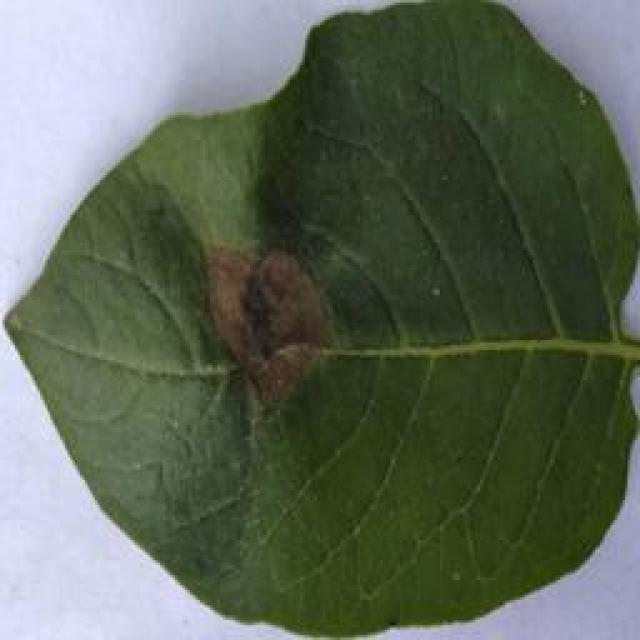Potato_Late_Blight: (0, 0, 628, 627)
